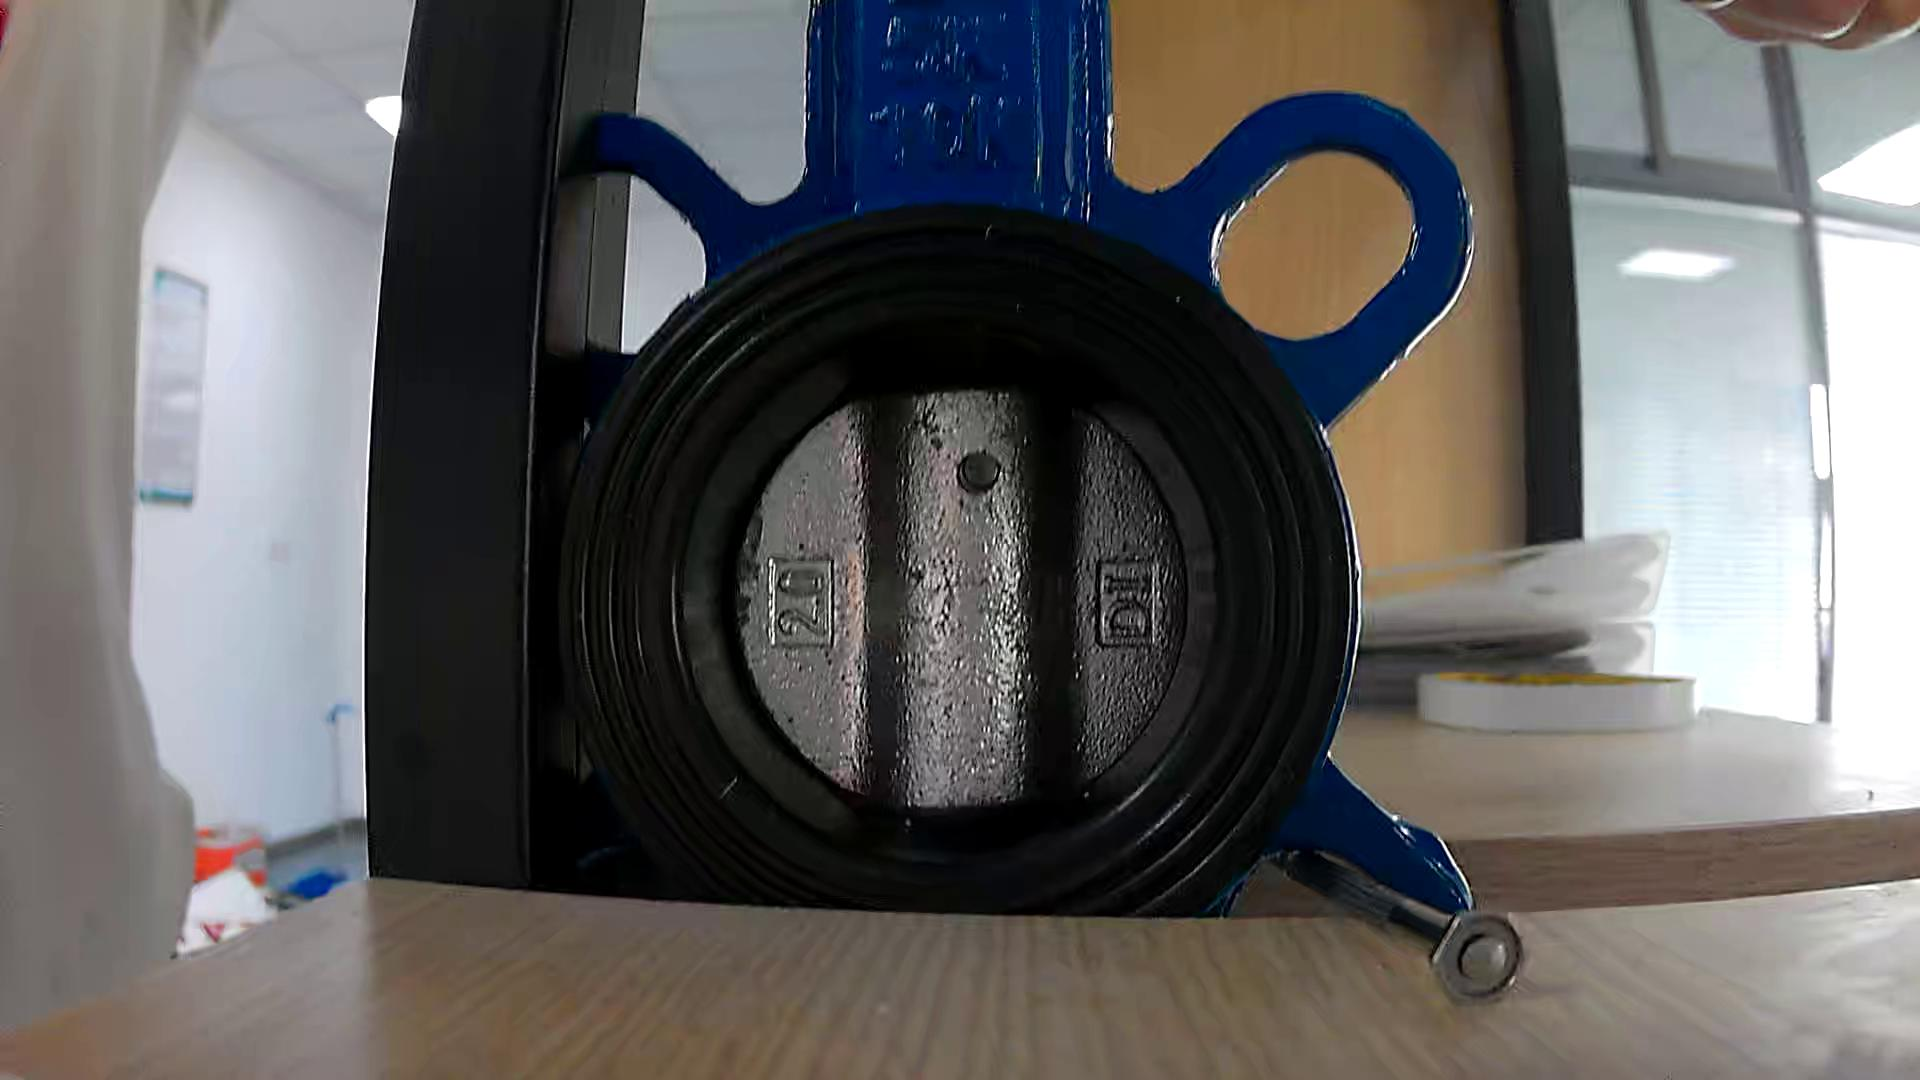valve: (735, 386, 1185, 814)
